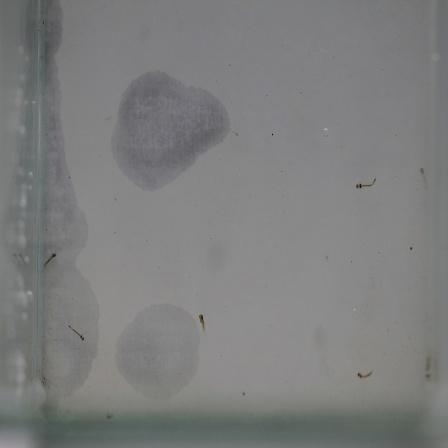Jentik-Nyamuk: (63, 319, 89, 346), (353, 171, 379, 197), (41, 246, 60, 274), (353, 365, 377, 383), (196, 309, 211, 334)
